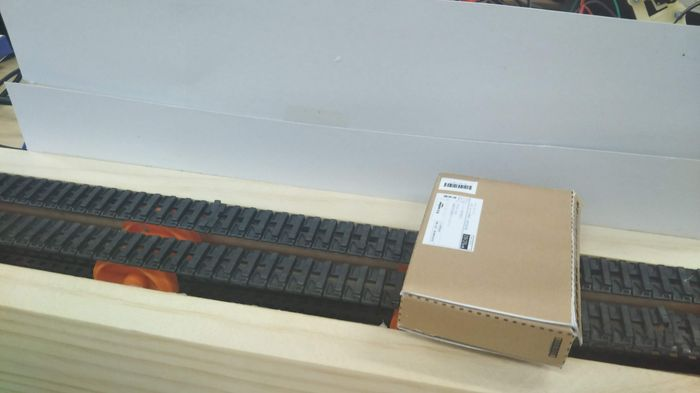box2: (396, 170, 584, 371)
